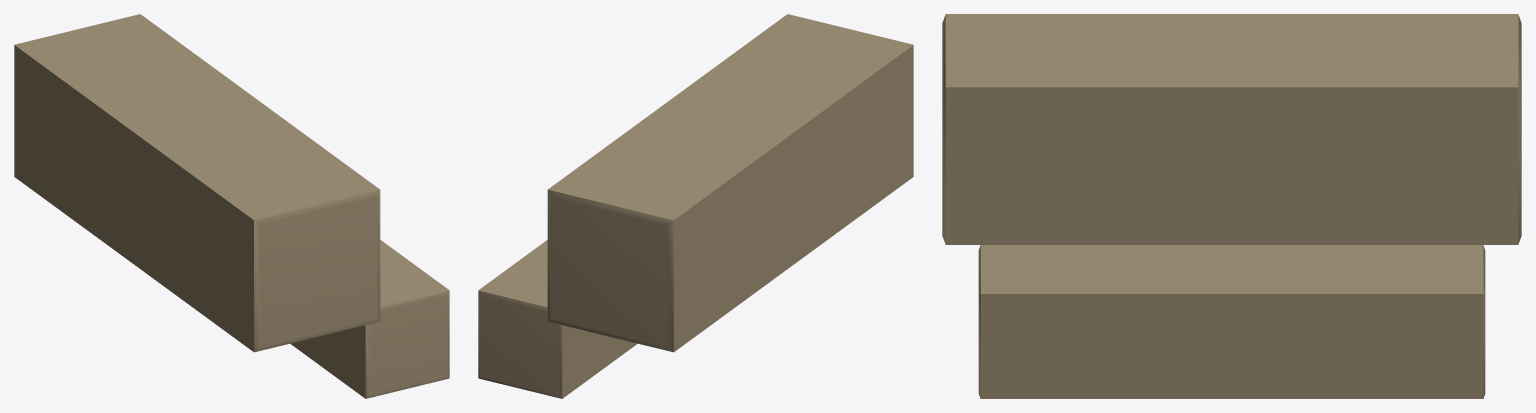
File: Wall_Detail_02 & 03.fbx
The picture shows the model from 3 angles, left to right: view 1: azimuth 30°, elevation 25°; view 2: azimuth 150°, elevation 25°; view 3: azimuth 270°, elevation 25°; orthographic projection. The views are drawn at different scales.
Parts seen in each view (by area): view 1: Wall_Detail_02, Wall_Detail_03; view 2: Wall_Detail_02, Wall_Detail_03; view 3: Wall_Detail_02, Wall_Detail_03.
Boxes of the visible parts, x1,y1,x2,y2 form: Wall_Detail_02: [14, 14, 380, 352]; Wall_Detail_03: [290, 240, 449, 398]; Wall_Detail_02: [547, 14, 913, 352]; Wall_Detail_03: [478, 240, 637, 398]; Wall_Detail_02: [942, 14, 1521, 244]; Wall_Detail_03: [978, 245, 1485, 398].
Bounding box in the file's own units: 1 × 1 × 2.
